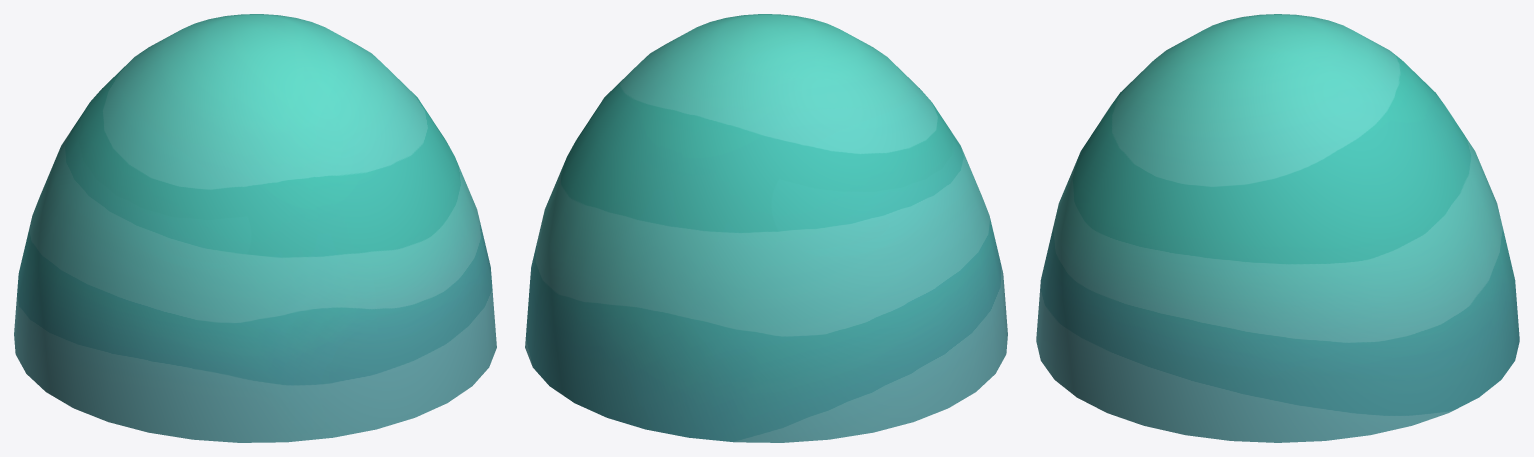
Rendered from SM_Mountain_1b.fbx.
3 renders of one model, left to right at view 1: azimuth 30°, elevation 25°; view 2: azimuth 150°, elevation 25°; view 3: azimuth 270°, elevation 25°, orthographic.
Visible parts, largest first — view 1: SM_Mountain_1b; view 2: SM_Mountain_1b; view 3: SM_Mountain_1b.
Part boxes in pixels (x1,y1,x2,y2): SM_Mountain_1b: (14, 14, 496, 442); SM_Mountain_1b: (525, 14, 1007, 442); SM_Mountain_1b: (1036, 14, 1519, 442).
Bounding box in the file's own units: 1373 × 975 × 1373.
